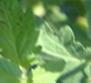Tomato leaf bacterial spot: (0, 0, 45, 75)
